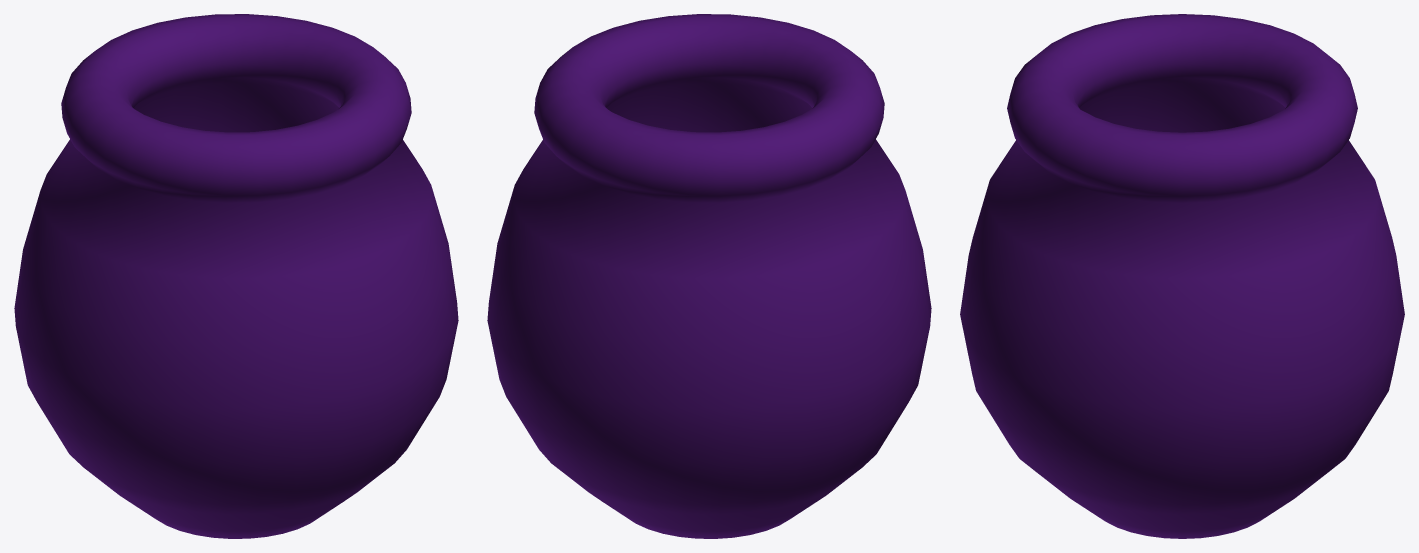
Rendered from Pot.fbx.
3 views of the same model, side by side, from view 1: azimuth 30°, elevation 25°; view 2: azimuth 150°, elevation 25°; view 3: azimuth 270°, elevation 25° (orthographic).
Visible parts, largest first — view 1: Cylinder; view 2: Cylinder; view 3: Cylinder.
Part boxes in pixels (left/top/right/bottom): Cylinder: left=14, top=14, right=458, bottom=538; Cylinder: left=487, top=14, right=931, bottom=538; Cylinder: left=960, top=14, right=1404, bottom=538.
Size of the model in its own units: 222 by 233 by 222.
